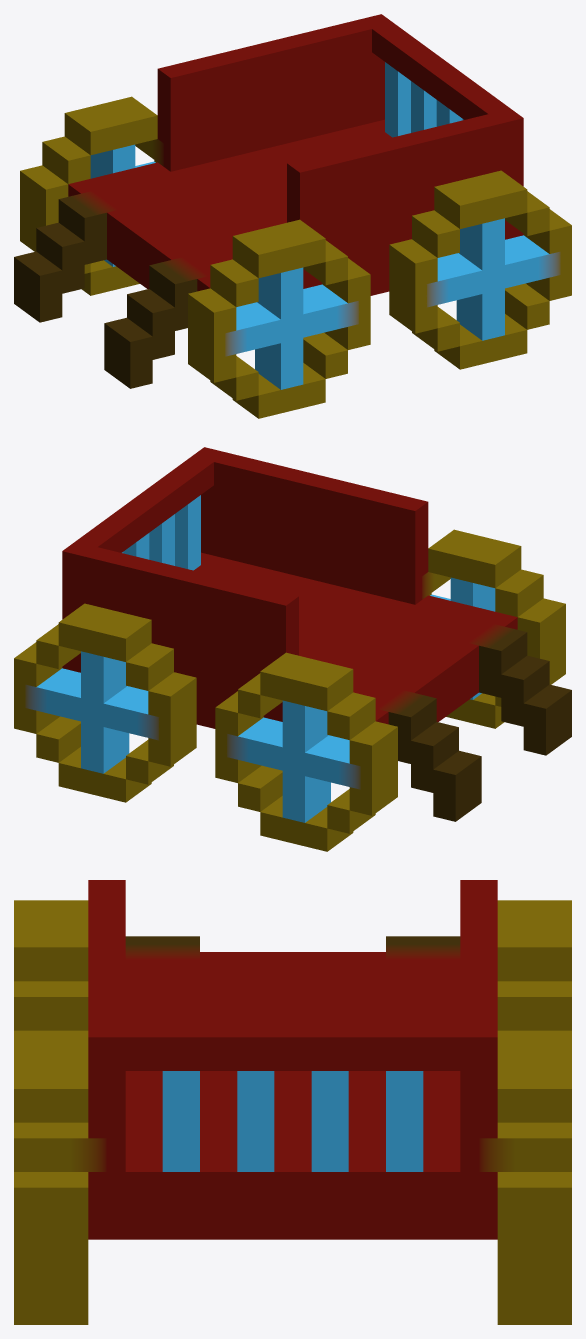
Rendered from Vehicle_17.fbx.
3 renders of one model, top to bottom at view 1: azimuth 30°, elevation 25°; view 2: azimuth 150°, elevation 25°; view 3: azimuth 270°, elevation 25°, orthographic. The views are drawn at different scales.
Visible parts, largest first — view 1: Vehicle_17; view 2: Vehicle_17; view 3: Vehicle_17.
Part boxes in pixels (x1,y1,x2,y2): Vehicle_17: (14, 14, 571, 418); Vehicle_17: (14, 447, 571, 851); Vehicle_17: (14, 880, 571, 1324).
Bounding box in the file's own units: 18 × 9 × 15.
Materials: 1 (1 with a texture image).
